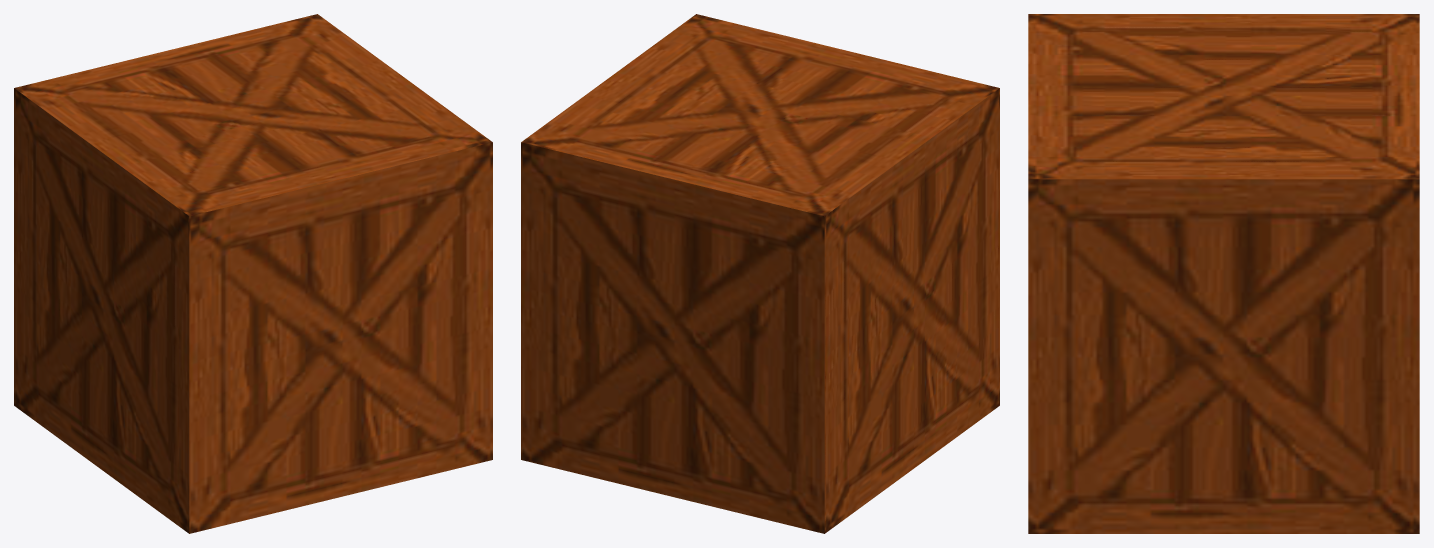
The model's file is NormalBoxFracture.glb.
3 renders of one model, left to right at view 1: azimuth 30°, elevation 25°; view 2: azimuth 150°, elevation 25°; view 3: azimuth 270°, elevation 25°, orthographic. The views are drawn at different scales.
Parts seen in each view (by area): view 1: Cube, Cube_cell.006, Cube_cell.007, Cube_cell.002, Cube_cell.004, Cube_cell.005, Cube_cell, Cube_cell.003; view 2: Cube, Cube_cell.004, Cube_cell.005, Cube_cell.006, Cube_cell.002, Cube_cell, Cube_cell.007, Cube_cell.001; view 3: Cube, Cube_cell, Cube_cell.002, Cube_cell.001, Cube_cell.003, Cube_cell.006, Cube_cell.004.
Part boxes in pixels (bbox=[...]): Cube: bbox=[14, 14, 492, 533]; Cube_cell.006: bbox=[104, 119, 347, 377]; Cube_cell.007: bbox=[96, 302, 345, 533]; Cube_cell.002: bbox=[251, 76, 492, 331]; Cube_cell.004: bbox=[14, 51, 249, 305]; Cube_cell.005: bbox=[14, 246, 97, 464]; Cube_cell: bbox=[166, 14, 401, 114]; Cube_cell.003: bbox=[344, 301, 492, 475]; Cube: bbox=[521, 14, 999, 533]; Cube_cell.004: bbox=[674, 115, 914, 371]; Cube_cell.005: bbox=[672, 316, 908, 533]; Cube_cell.006: bbox=[767, 49, 999, 296]; Cube_cell.002: bbox=[606, 15, 839, 115]; Cube_cell: bbox=[521, 82, 761, 340]; Cube_cell.007: bbox=[943, 250, 999, 426]; Cube_cell.001: bbox=[521, 325, 671, 461]; Cube: bbox=[1028, 14, 1419, 533]; Cube_cell: bbox=[1226, 97, 1419, 363]; Cube_cell.002: bbox=[1028, 94, 1231, 364]; Cube_cell.001: bbox=[1224, 362, 1419, 533]; Cube_cell.003: bbox=[1028, 357, 1223, 533]; Cube_cell.006: bbox=[1028, 14, 1221, 95]; Cube_cell.004: bbox=[1220, 14, 1419, 95].
Size of the model in its own units: 2 by 2 by 2.
1 material, 1 textured.
